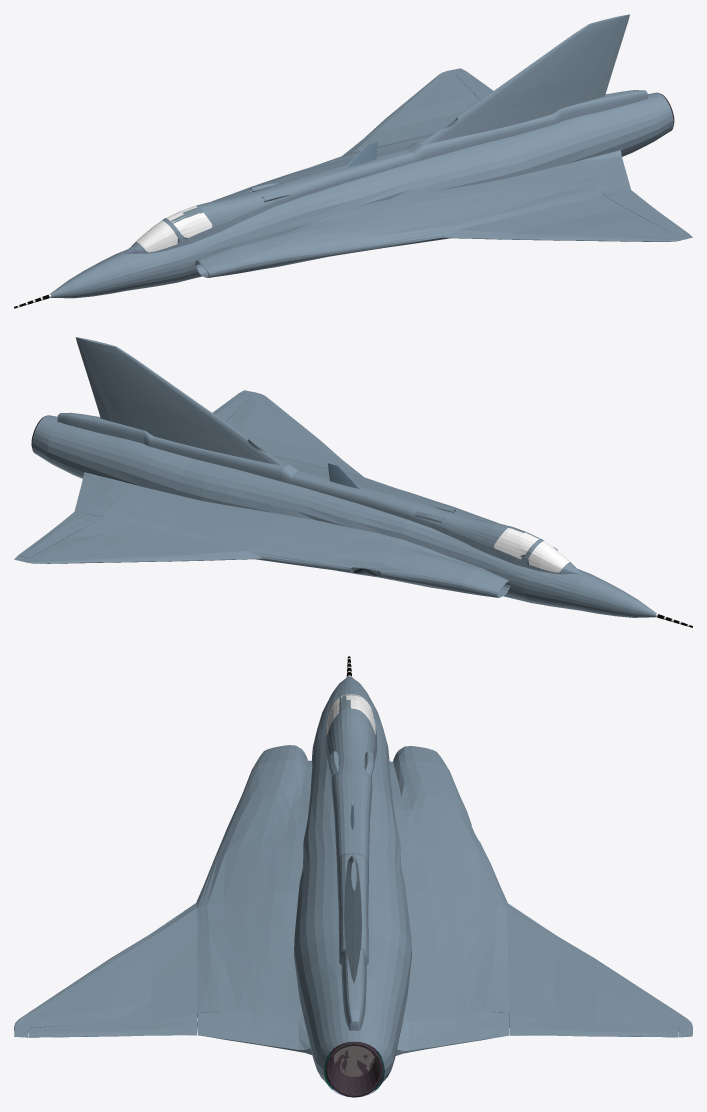
3 views of the same model, one above another, from view 1: azimuth 30°, elevation 25°; view 2: azimuth 150°, elevation 25°; view 3: azimuth 270°, elevation 25° (orthographic). The views are drawn at different scales.
Size of the model in its own units: 17.62 by 3.96 by 10.82.
9 materials, 3 textured.
